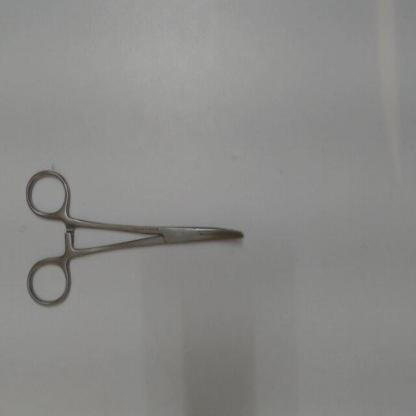Crile Artery Forceps: (23, 159, 257, 308)
